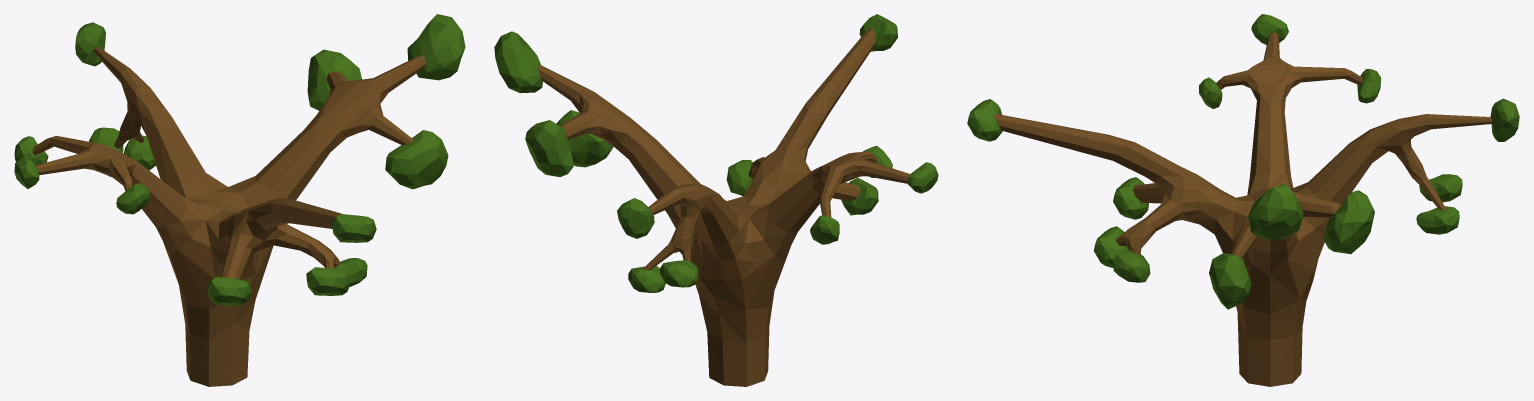
Rendered from 2Stad.fbx.
3 renders of one model, left to right at view 1: azimuth 30°, elevation 25°; view 2: azimuth 150°, elevation 25°; view 3: azimuth 270°, elevation 25°, orthographic. The views are drawn at different scales.
Visible parts, largest first — view 1: Cube.019; view 2: Cube.019; view 3: Cube.019.
Boxes of the visible parts, x1=… form: Cube.019: x1=14, y1=14, x2=465, y2=386; Cube.019: x1=494, y1=14, x2=938, y2=386; Cube.019: x1=967, y1=14, x2=1519, y2=386.
Size of the model in its own units: 89.97 by 57.32 by 95.48.
